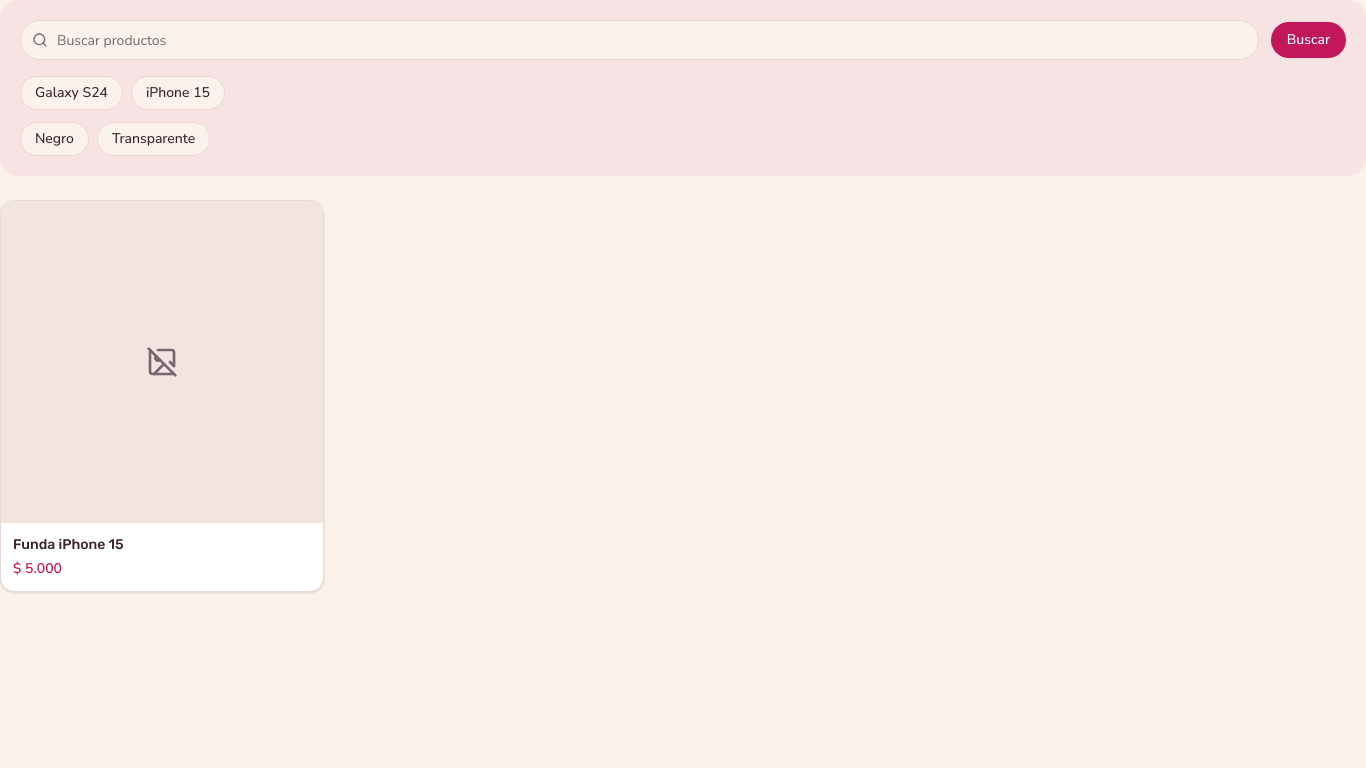
Test: CatalogFilters › renders the no-results empty state when a search matches nothing
The width and height of the screenshot is (1366, 768).
Click the button "Galaxy S24": (72,93) top-left (20, 76), bottom-right (123, 110)
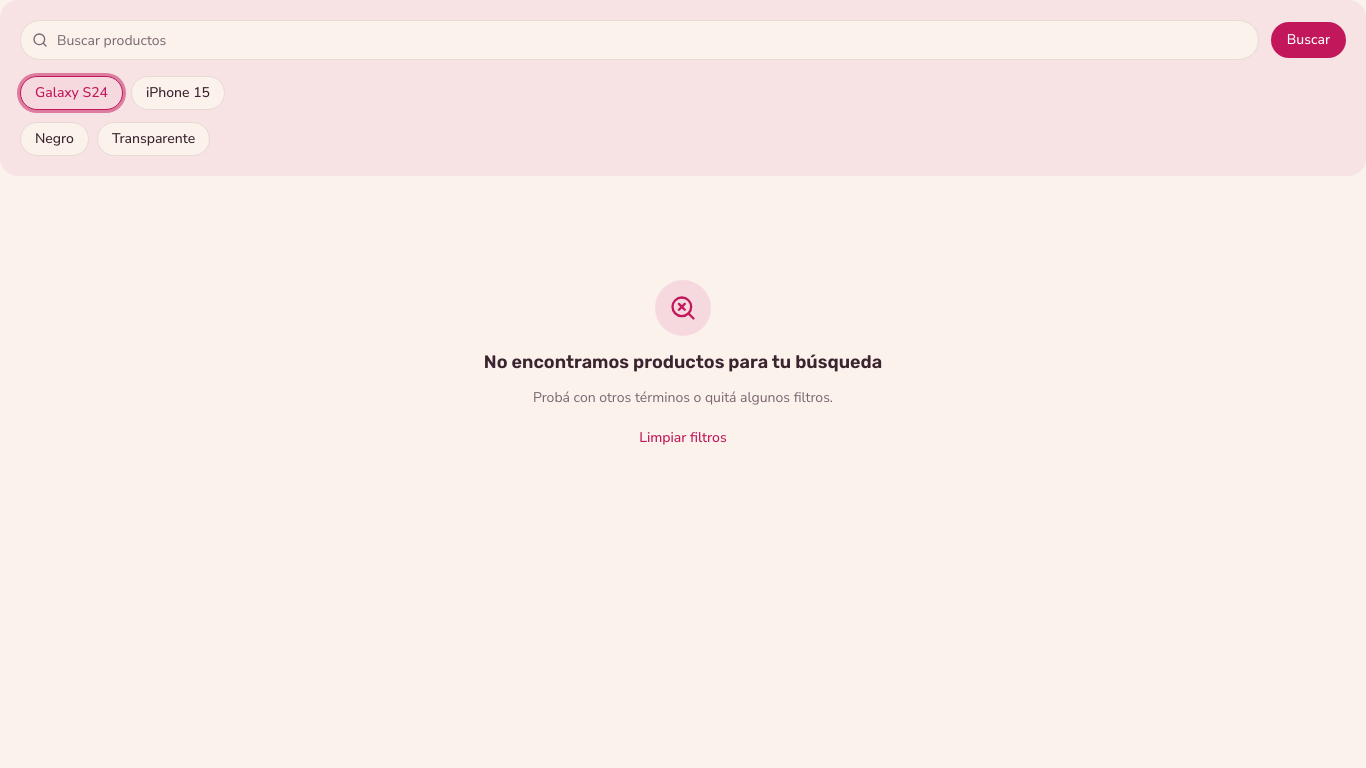
Result: the message with test id "catalog-empty-state-no-results" is shown at top-left (484, 280), bottom-right (882, 447)
